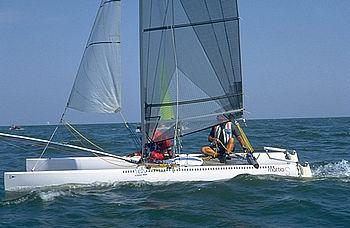Ship: (4, 1, 313, 192)
